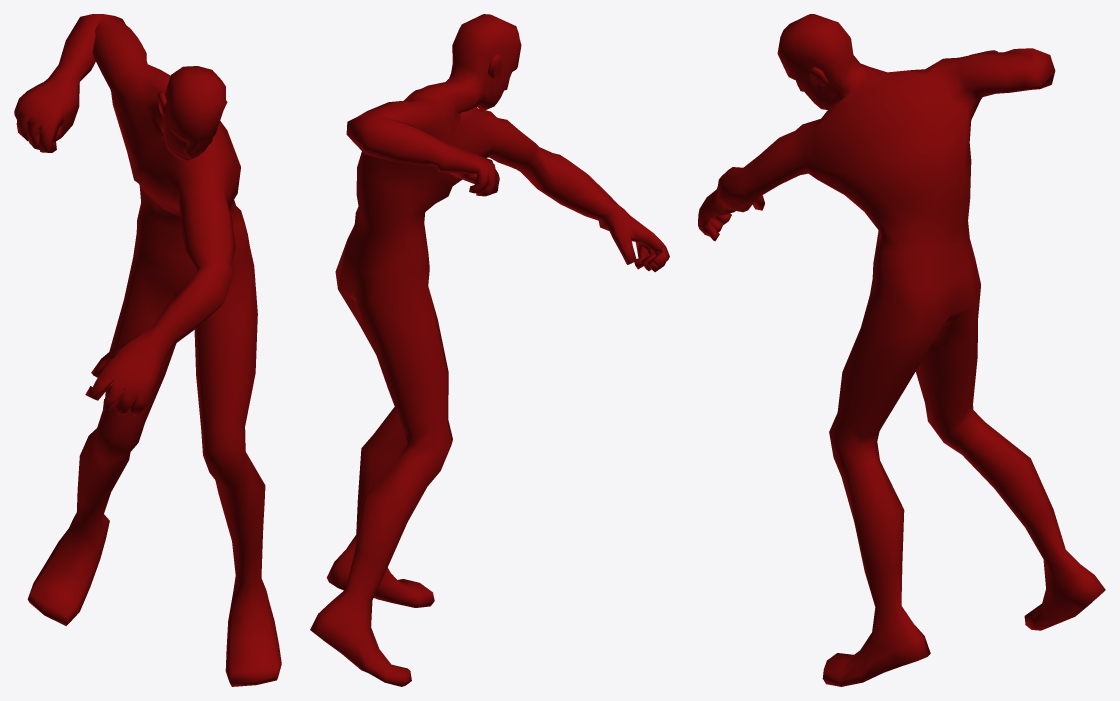
Rendered from attack_9.obj.
3 views of the same model, side by side, from view 1: azimuth 30°, elevation 25°; view 2: azimuth 150°, elevation 25°; view 3: azimuth 270°, elevation 25° (orthographic). The views are drawn at different scales.
Parts seen in each view (by area): view 1: Low_Poly_Characte.000_Mesh.001; view 2: Low_Poly_Characte.000_Mesh.001; view 3: Low_Poly_Characte.000_Mesh.001.
Part boxes in pixels (x1,y1,x2,y2): Low_Poly_Characte.000_Mesh.001: (14,14,281,686); Low_Poly_Characte.000_Mesh.001: (310,14,669,686); Low_Poly_Characte.000_Mesh.001: (698,14,1105,686).
Bounding box in the file's own units: 1.29 × 2.9 × 1.71.
